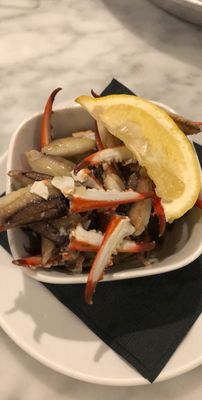sandwich: (40, 276, 201, 385)
